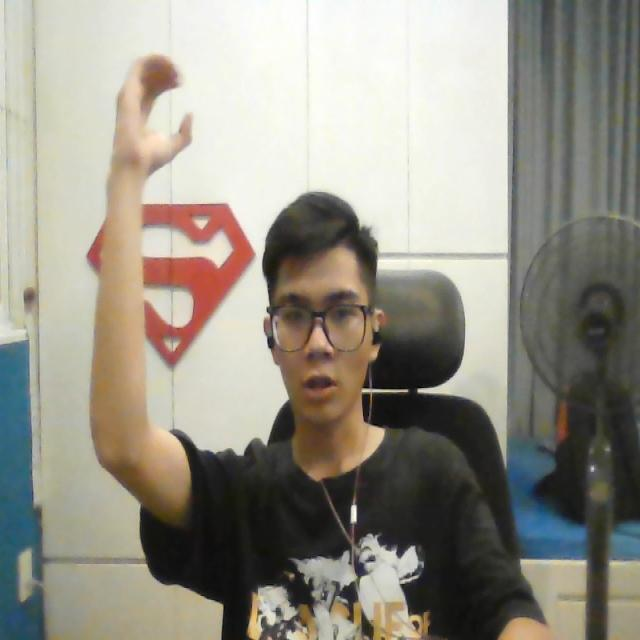C: (108, 50, 198, 174)
